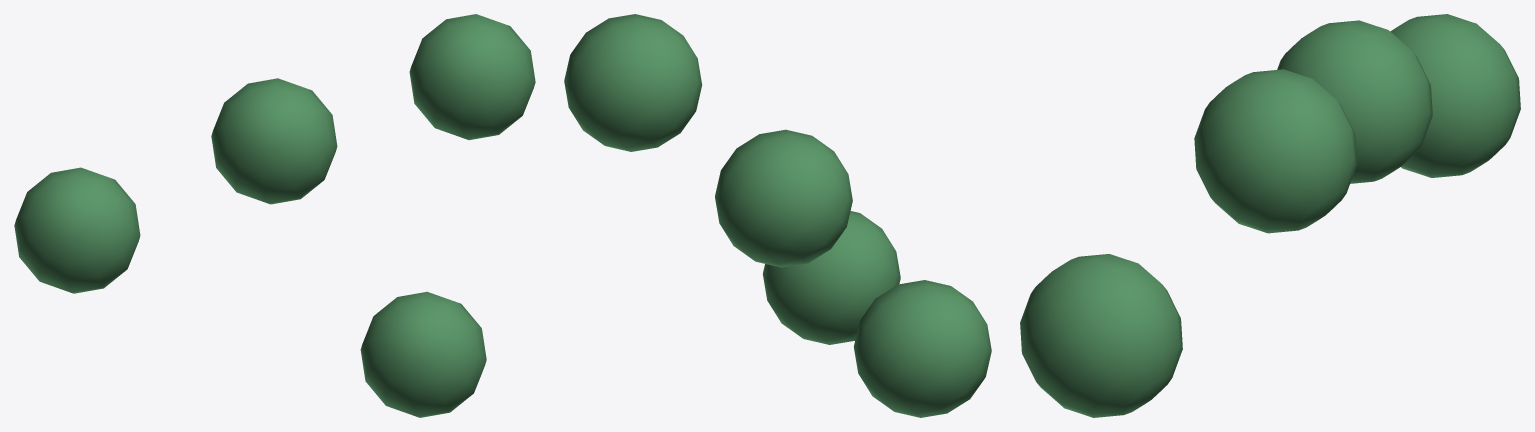
3 renders of one model, left to right at view 1: azimuth 30°, elevation 25°; view 2: azimuth 150°, elevation 25°; view 3: azimuth 270°, elevation 25°, orthographic. The views are drawn at different scales.
Parts seen in each view (by area): view 1: 左侧颈外侧深下淋巴结; view 2: 左侧颈外侧深下淋巴结; view 3: 左侧颈外侧深下淋巴结.
Part boxes in pixels (left/top/right/bottom): 左侧颈外侧深下淋巴结: left=14, top=14, right=535, bottom=417; 左侧颈外侧深下淋巴结: left=564, top=14, right=991, bottom=417; 左侧颈外侧深下淋巴结: left=1020, top=14, right=1520, bottom=417.
Size of the model in its own units: 0.0153 by 0.0104 by 0.0116.
